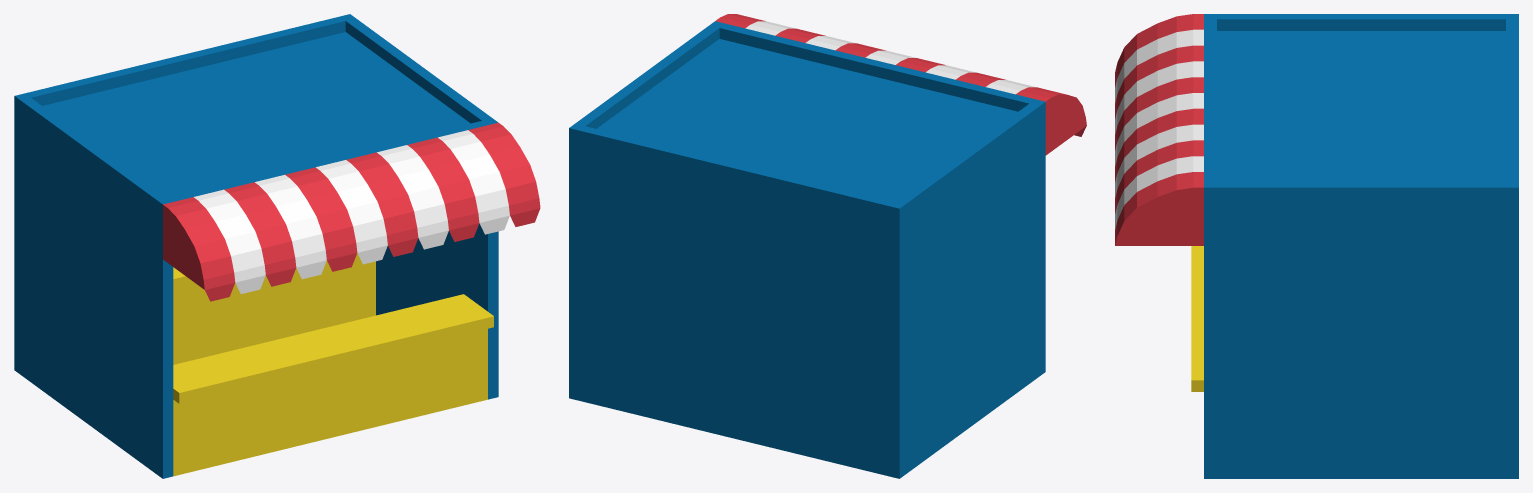
The model's file is SM Lempar Bola.fbx.
3 renders of one model, left to right at view 1: azimuth 30°, elevation 25°; view 2: azimuth 150°, elevation 25°; view 3: azimuth 270°, elevation 25°, orthographic. The views are drawn at different scales.
Parts seen in each view (by area): view 1: Stand Mainan Lempar Bola; view 2: Stand Mainan Lempar Bola; view 3: Stand Mainan Lempar Bola.
Boxes of the visible parts, box(x1,y1,x2,y2) form: Stand Mainan Lempar Bola: box(14, 14, 540, 478); Stand Mainan Lempar Bola: box(569, 14, 1086, 478); Stand Mainan Lempar Bola: box(1115, 14, 1518, 478).
Size of the model in its own units: 320 by 250 by 314.
